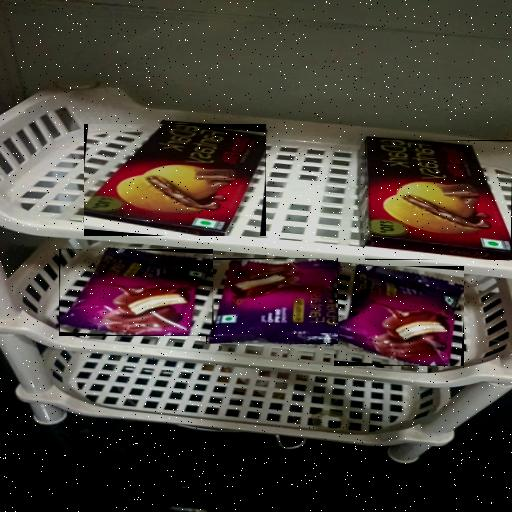Choco Fills: (84, 124, 266, 236), (365, 140, 512, 260)
Choco Pie: (59, 249, 213, 336), (334, 266, 464, 366), (206, 258, 338, 344)
